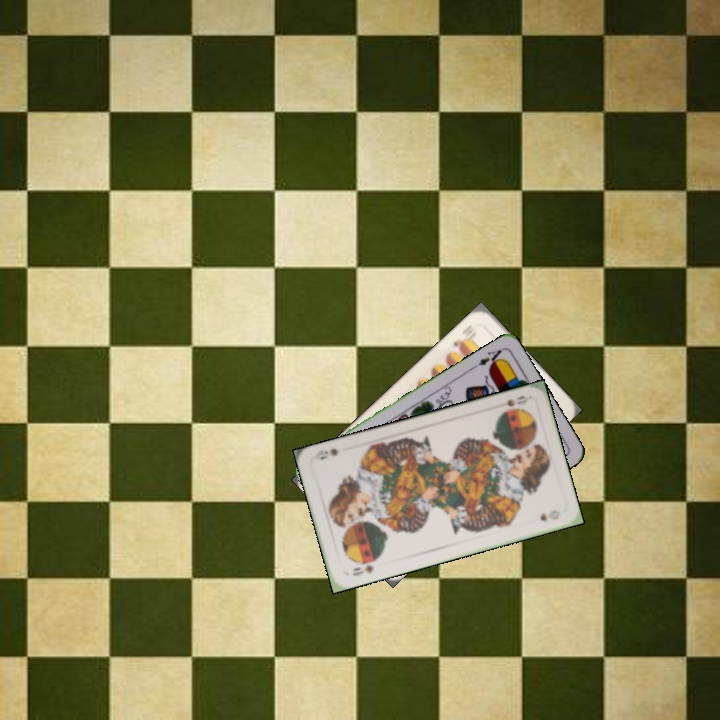E10: (449, 321, 475, 353)
EA: (469, 345, 505, 372)
SO: (349, 556, 380, 579), (502, 391, 532, 409)
